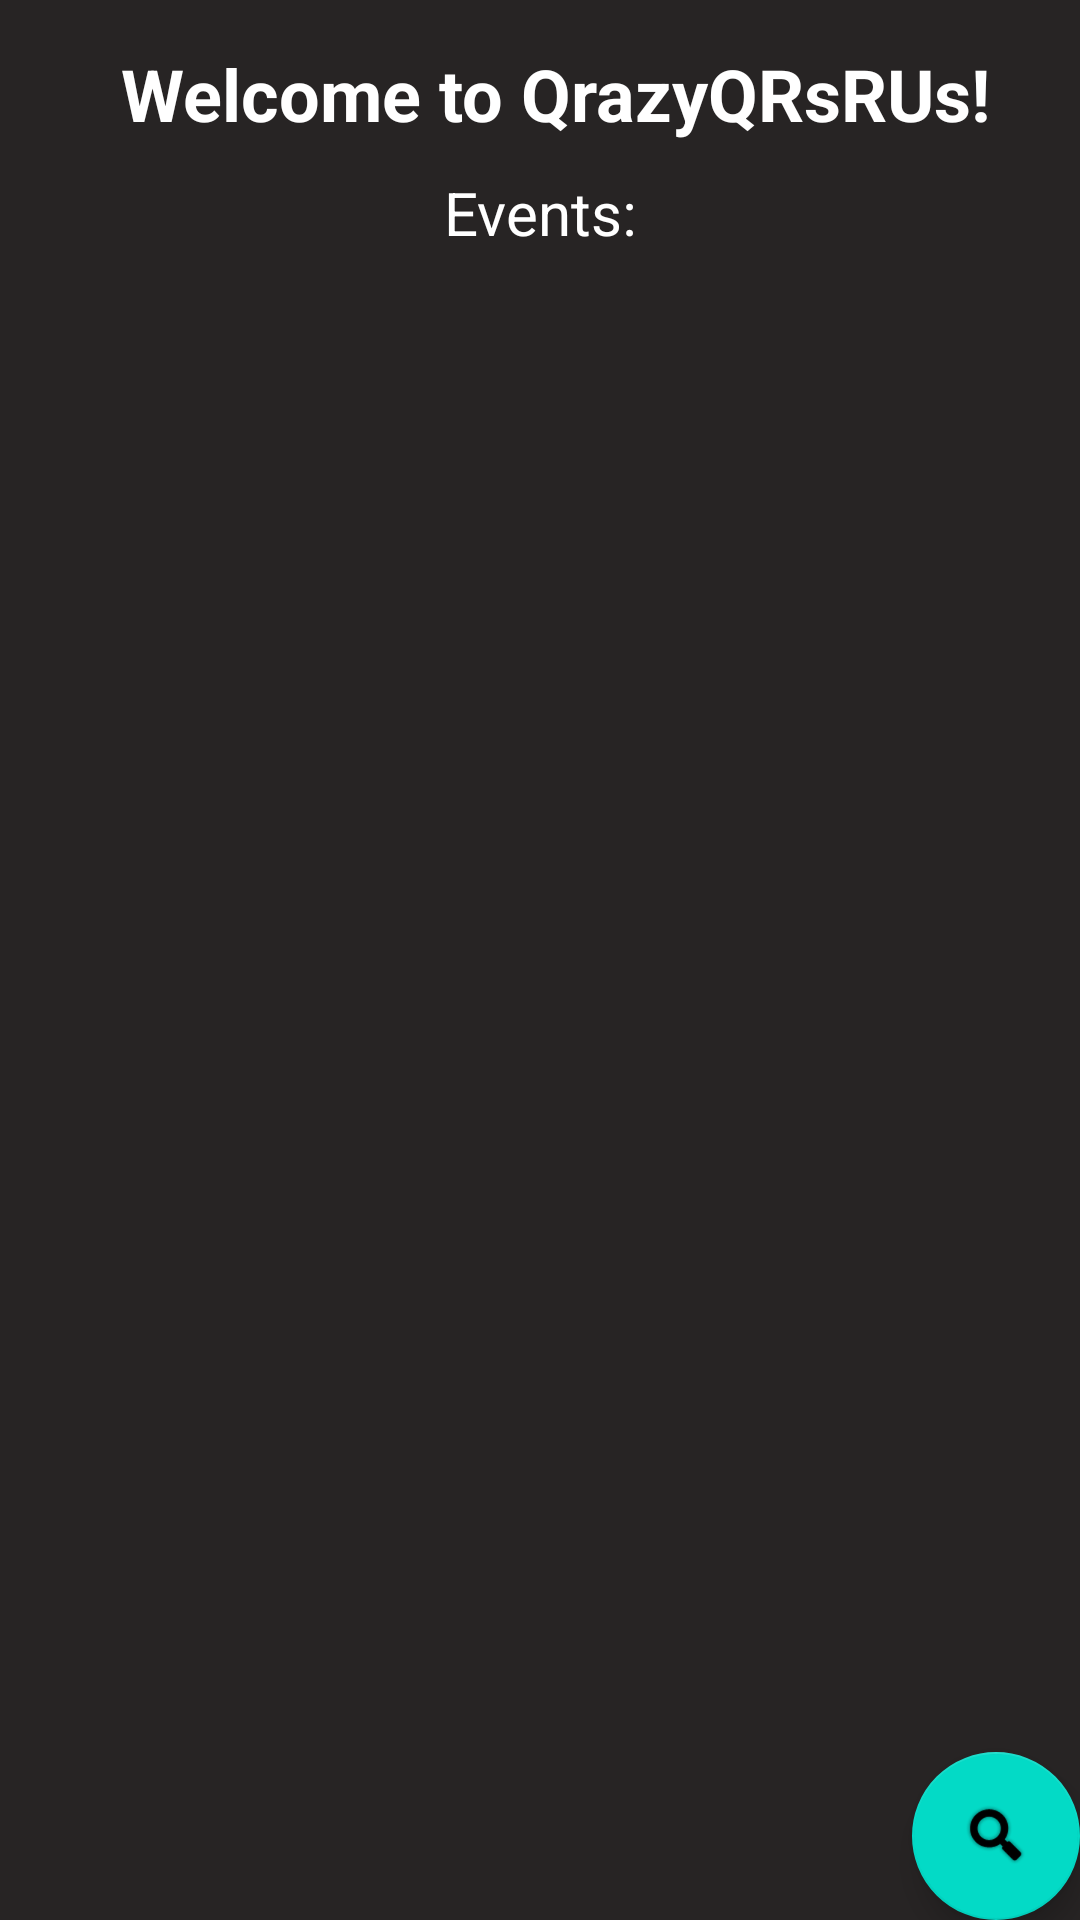

Icons on this 1080px×1920px Android screen, each with its box as (x1, y1, x2, y2):
Browse Events: (912, 1752, 1080, 1920)
